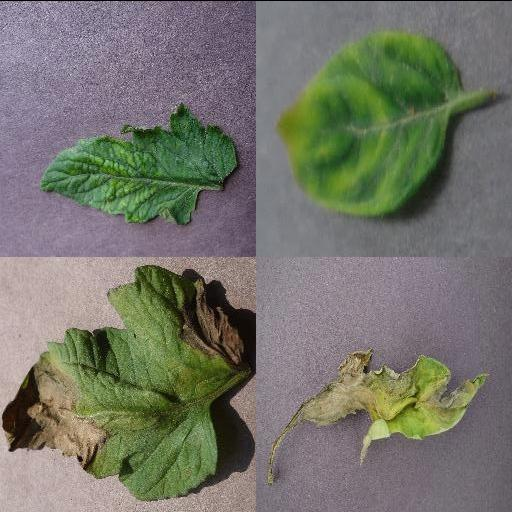Late Blight: (2, 264, 246, 500), (268, 345, 492, 483)
Mosaic Virus: (37, 104, 235, 224)
Yellow Leaf Curl Virus: (275, 31, 457, 216)
